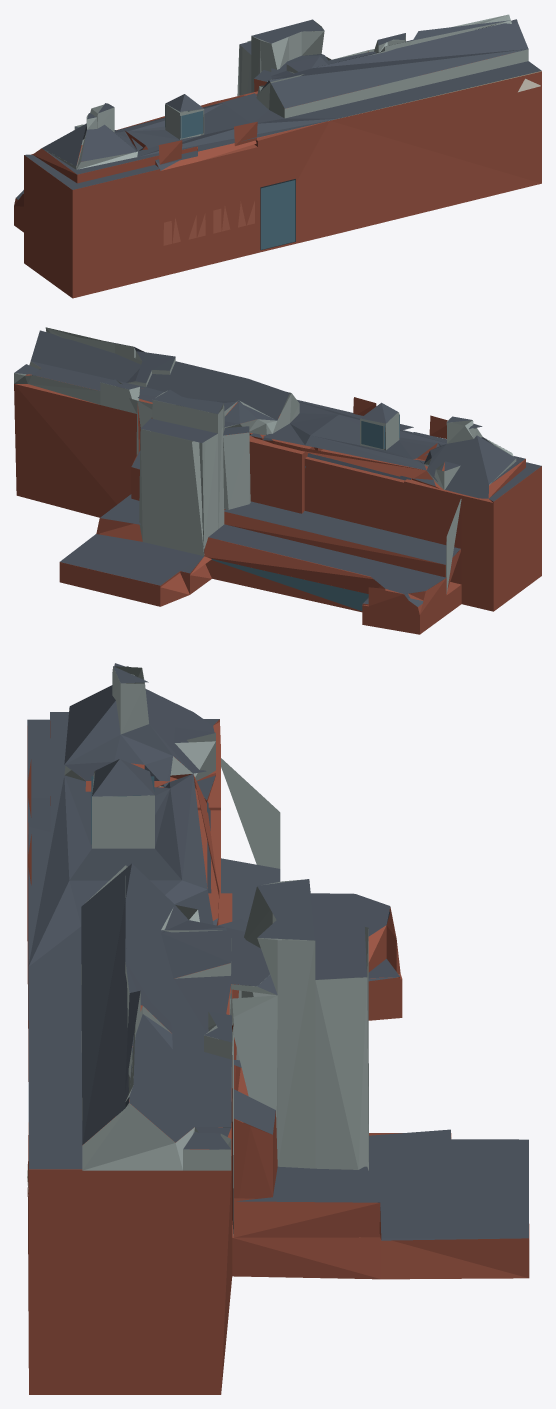
File: heineken-experience-amsterdam.lod2.glb
3 renders of one model, top to bottom at view 1: azimuth 30°, elevation 25°; view 2: azimuth 150°, elevation 25°; view 3: azimuth 270°, elevation 25°, orthographic. The views are drawn at different scales.
Parts seen in each view (by area): view 1: lod2; view 2: lod2; view 3: lod2.
Boxes of the visible parts, <box> form: lod2: <box>14,14,541,298</box>; lod2: <box>14,327,541,634</box>; lod2: <box>27,663,529,1394</box>.
Bounding box in the file's own units: 96.74 × 31.14 × 44.76.
